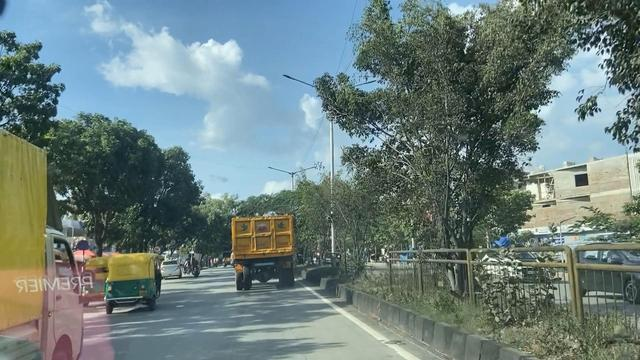HMV: (0, 134, 94, 360), (221, 217, 296, 292)
LMV: (112, 248, 160, 304)
